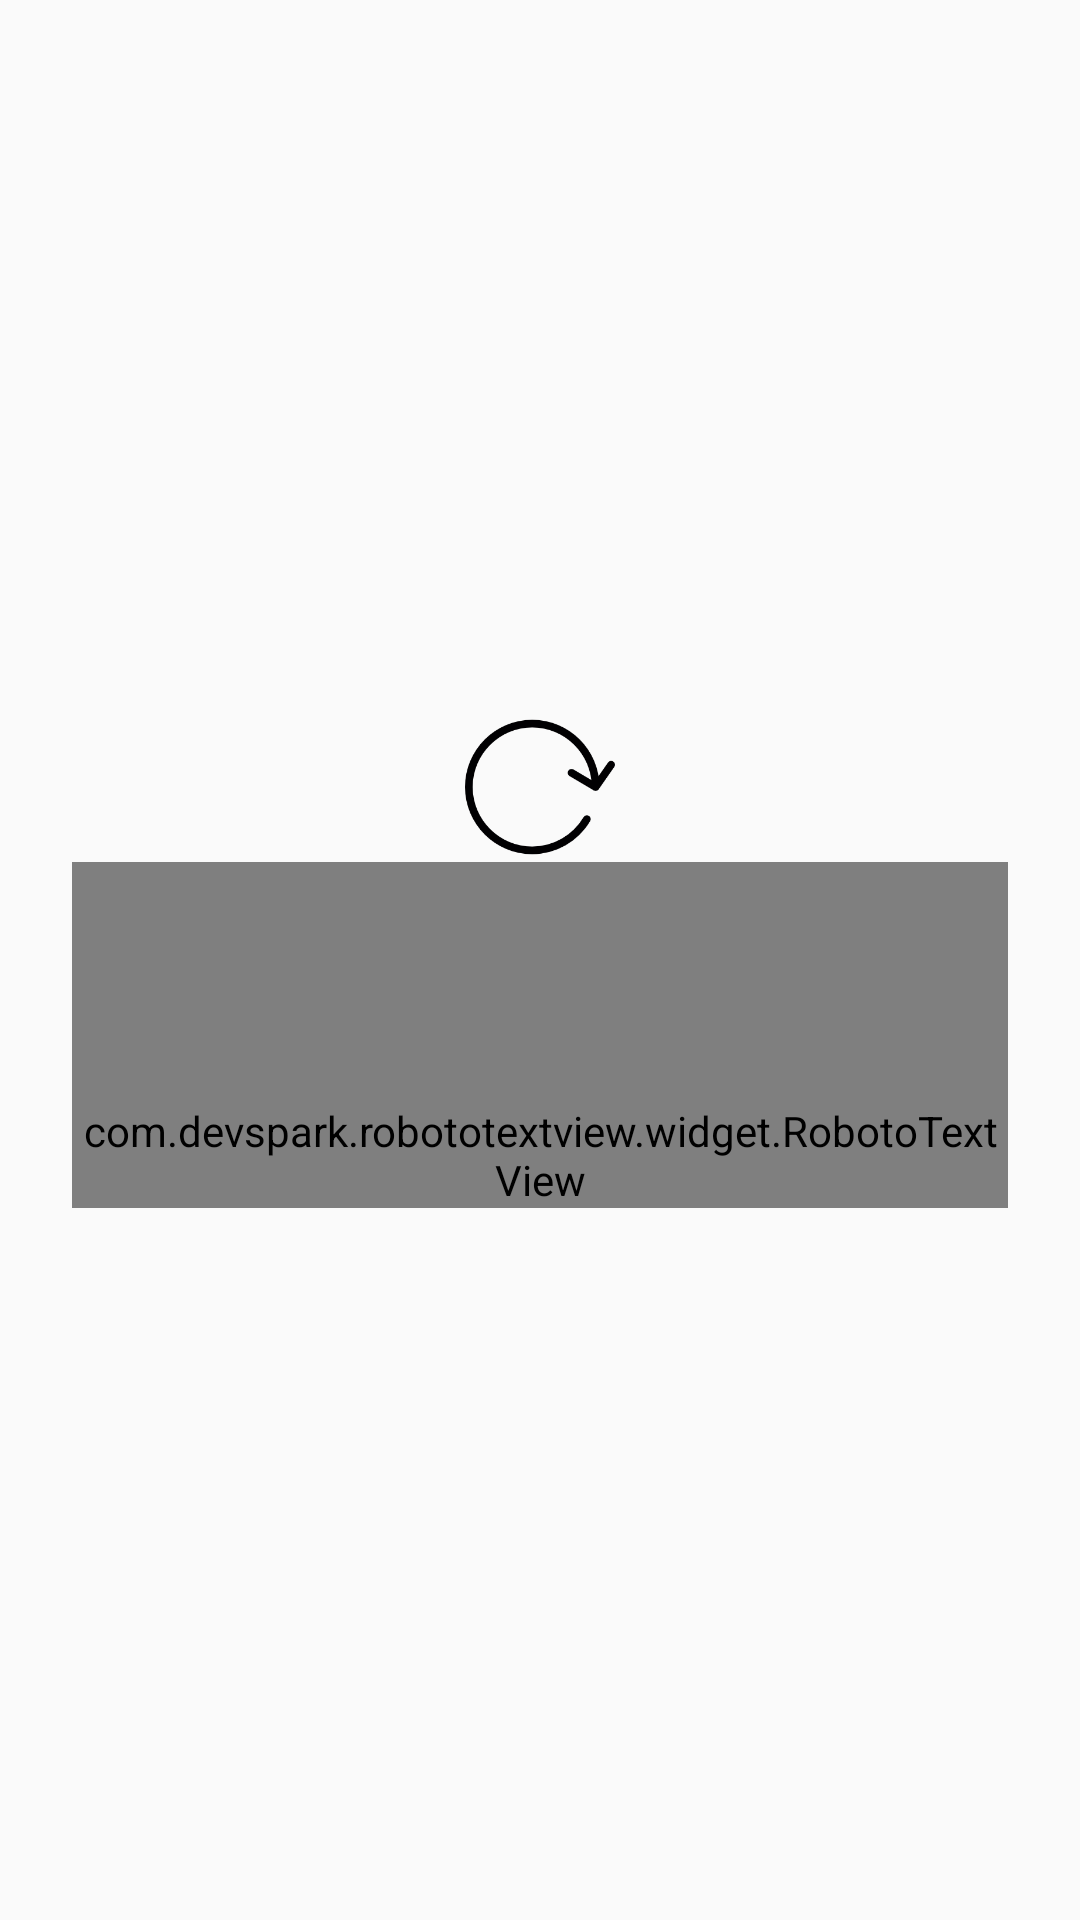

Where icons sit on this 1080×1920 app screen, as (x1, y1, x2, y2):
loading: (465, 719, 615, 855)
